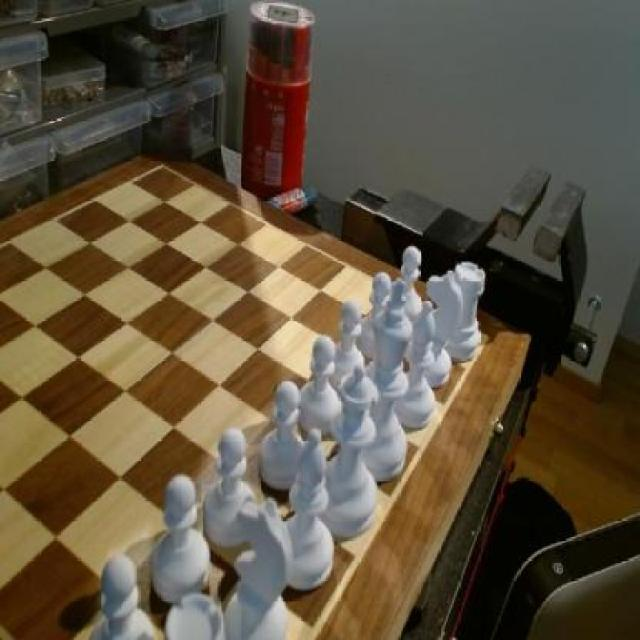black-rook: (278, 430, 337, 596), (398, 300, 438, 432)
white-bishop: (365, 275, 417, 484)
white-king: (226, 498, 297, 640), (425, 274, 466, 392)
white-knight: (147, 468, 210, 600), (204, 426, 262, 553), (87, 547, 160, 640), (262, 378, 309, 497), (298, 334, 348, 443), (326, 298, 370, 391), (360, 274, 395, 363), (395, 248, 424, 324)
white-pawn: (325, 360, 379, 546)
white-queen: (450, 263, 486, 361), (165, 591, 229, 640)
